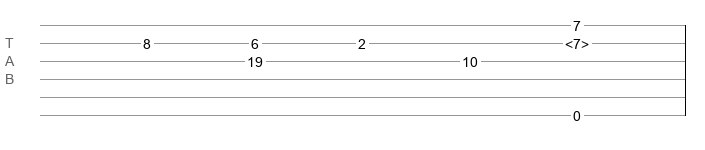0: (573, 108, 581, 118)
10: (462, 54, 478, 64)
19: (247, 54, 263, 64)
2: (358, 36, 366, 46)
6: (251, 36, 259, 46)
7: (573, 18, 581, 28)
8: (143, 36, 151, 46)
harmonic: (565, 36, 589, 46)
